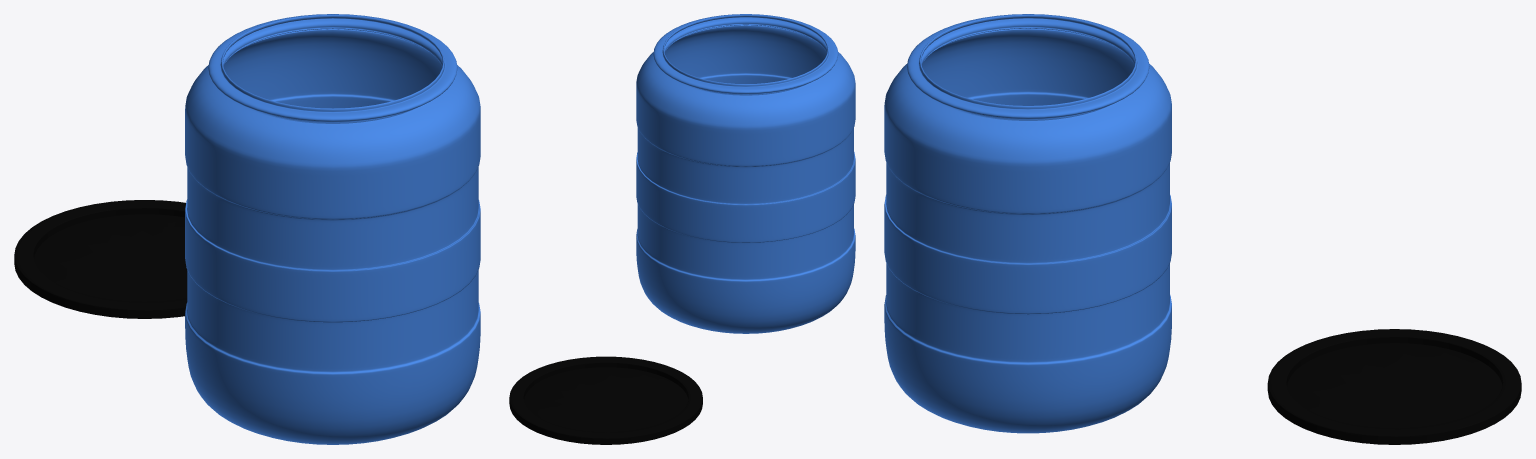
The model's file is tong default.fbx.
3 views of the same model, side by side, from view 1: azimuth 30°, elevation 25°; view 2: azimuth 150°, elevation 25°; view 3: azimuth 270°, elevation 25° (orthographic). The views are drawn at different scales.
Visible parts, largest first — view 1: Cylinder, Cylinder.001; view 2: Cylinder, Cylinder.001; view 3: Cylinder, Cylinder.001.
Boxes of the visible parts, x1,y1,x2,y2 form: Cylinder: (185,14,480,444); Cylinder.001: (14,200,187,318); Cylinder: (636,14,855,333); Cylinder.001: (509,356,702,444); Cylinder: (884,14,1171,433); Cylinder.001: (1267,329,1521,444).
Size of the model in its own units: 216 by 274 by 478.
